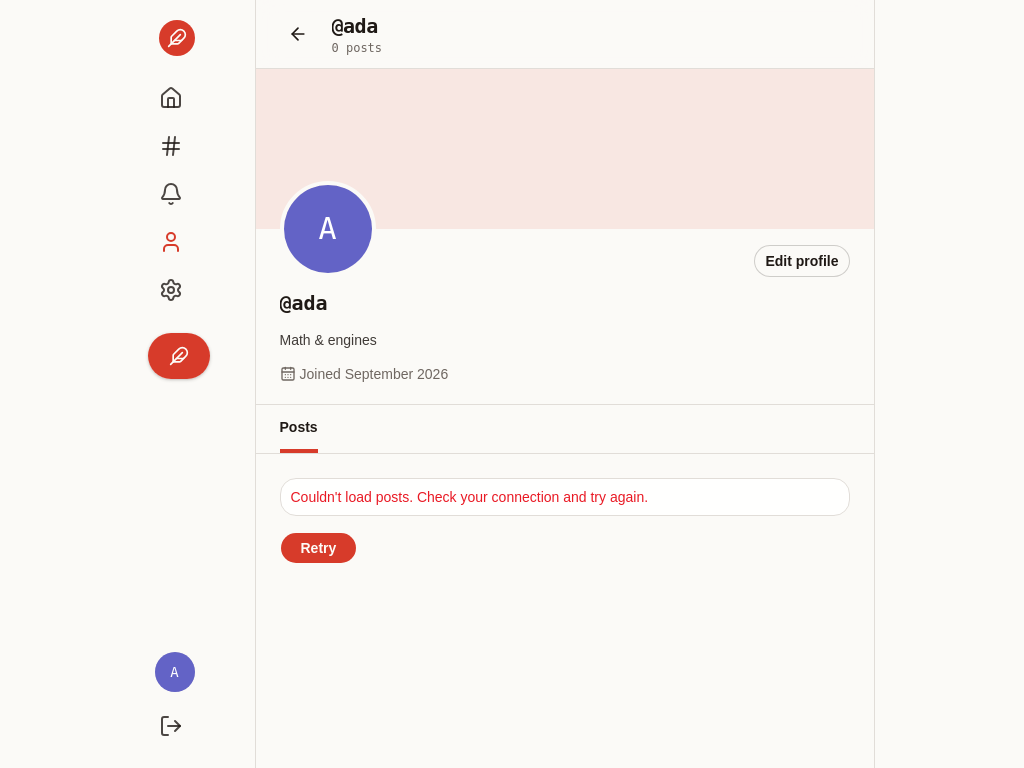
it: Profile › posts tab › shows an error with Retry when the posts fail to load, and recovers
Expected: the text "Couldn't load posts. Check your connection and try again." is shown, [290,489,648,505]
Expected: the heading "@ada" is shown, [332,14,378,38]
Click the button "Retry" at (318, 548), box [280,532,357,564]
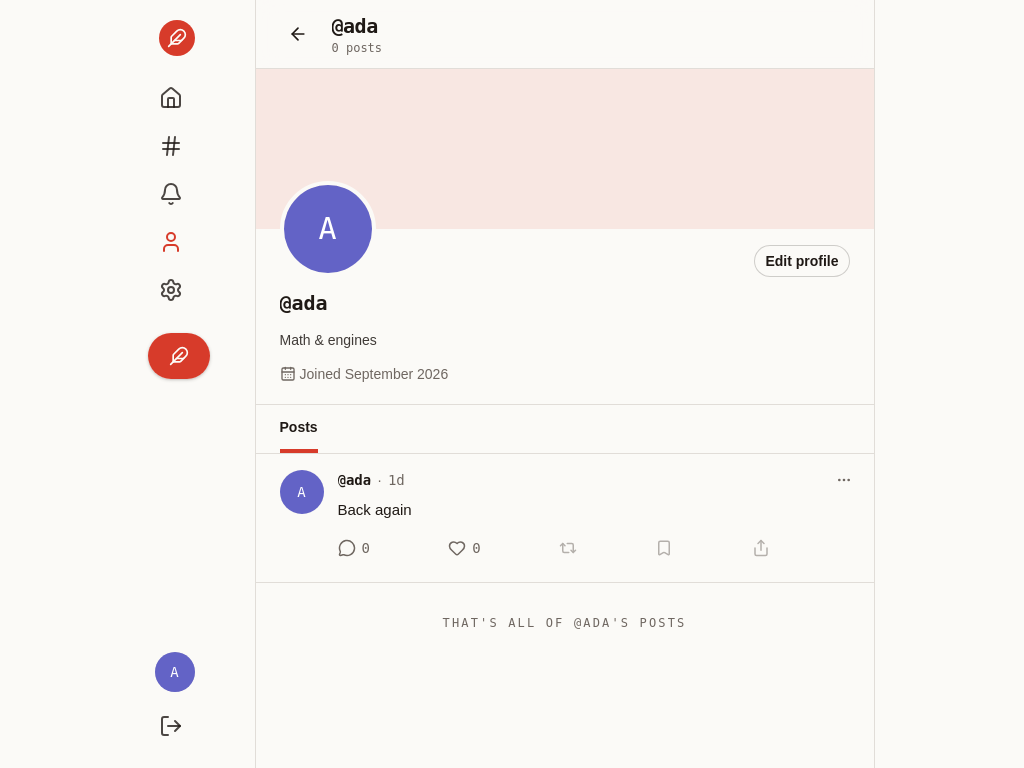
Now the text "Back again" is shown, box [338,501,412,518]
Now the text "Couldn't load posts" is gone
